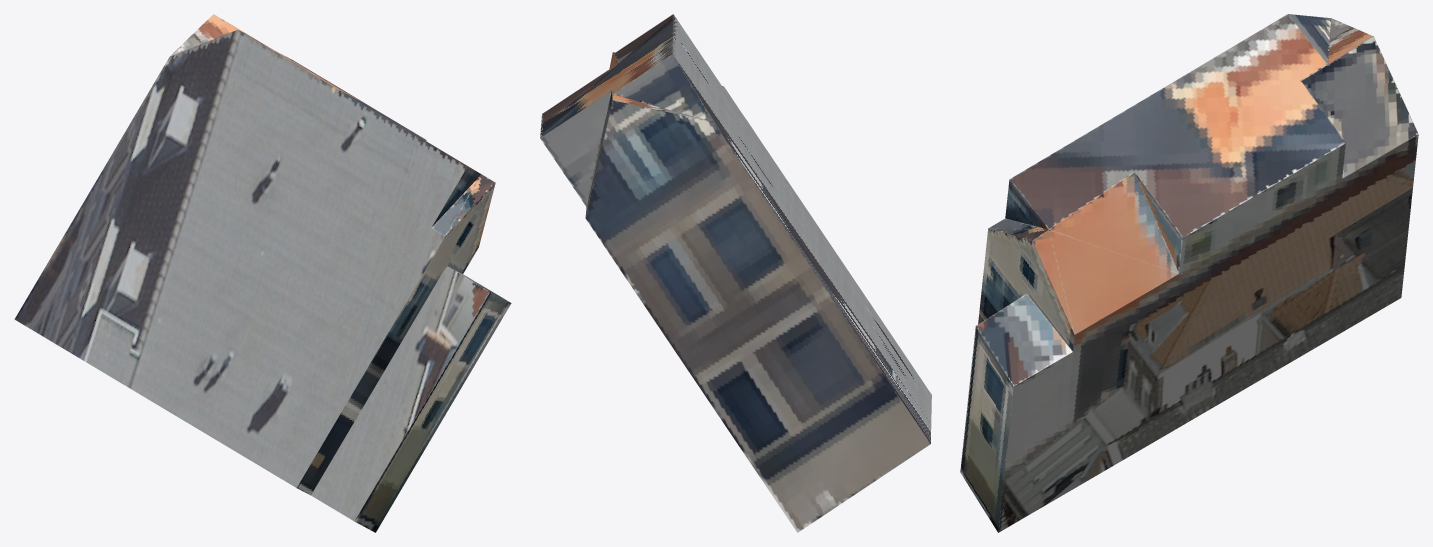
3 renders of one model, left to right at view 1: azimuth 30°, elevation 25°; view 2: azimuth 150°, elevation 25°; view 3: azimuth 270°, elevation 25°, orthographic. The views are drawn at different scales.
Visible parts, largest first — view 1: BAG_0599100000194804 (×3); view 2: BAG_0599100000194804 (×2); view 3: BAG_0599100000194804 (×4).
Boxes of the visible parts, <box> form: BAG_0599100000194804 (×3): <box>14,14,511,532</box>; BAG_0599100000194804 (×2): <box>540,14,931,532</box>; BAG_0599100000194804 (×4): <box>960,14,1418,532</box>.
Bounding box in the file's own units: 13.77 × 14.81 × 12.1.
Materials: 4 (4 with a texture image).
